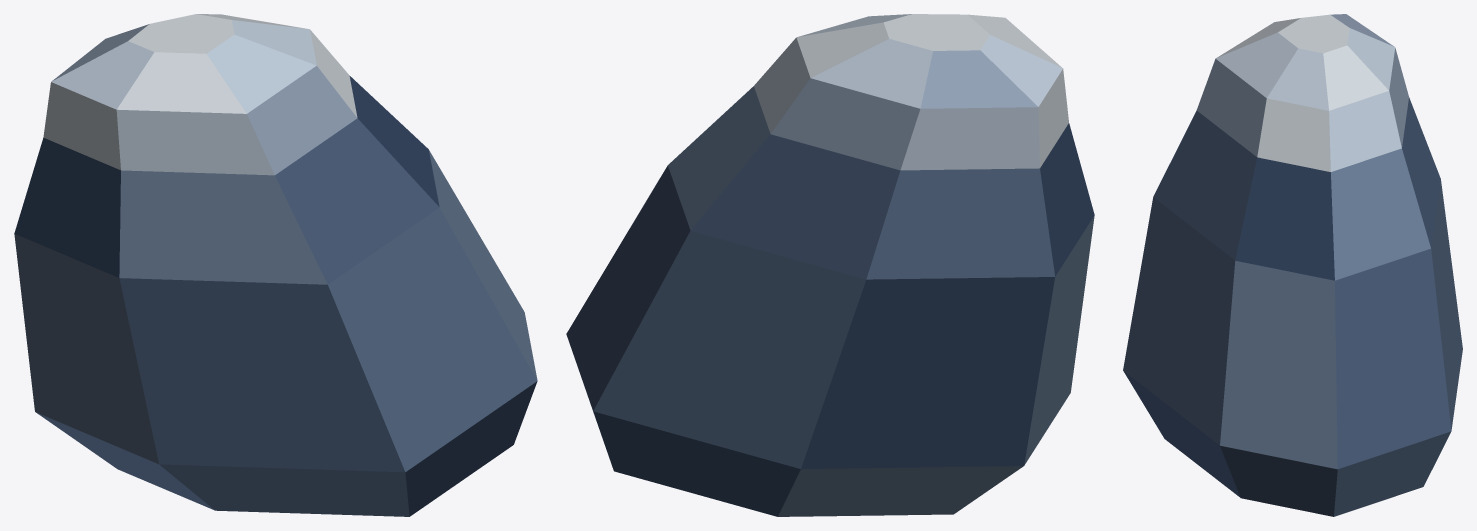
The model's file is stacked-slate.glb.
3 views of the same model, side by side, from view 1: azimuth 30°, elevation 25°; view 2: azimuth 150°, elevation 25°; view 3: azimuth 270°, elevation 25° (orthographic). The views are drawn at different scales.
Visible parts, largest first — view 1: stacked-slate; view 2: stacked-slate; view 3: stacked-slate.
Part boxes in pixels (x1,y1,x2,y2): stacked-slate: [14, 14, 537, 516]; stacked-slate: [566, 14, 1094, 516]; stacked-slate: [1123, 14, 1462, 516].
Size of the model in its own units: 2.69 by 2.3 by 2.
